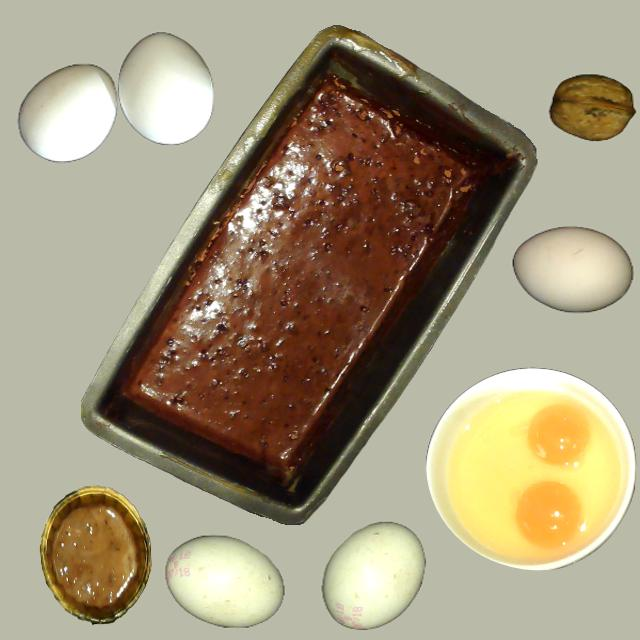Sugar: (425, 369, 634, 571)
Walnut: (549, 74, 634, 141)
